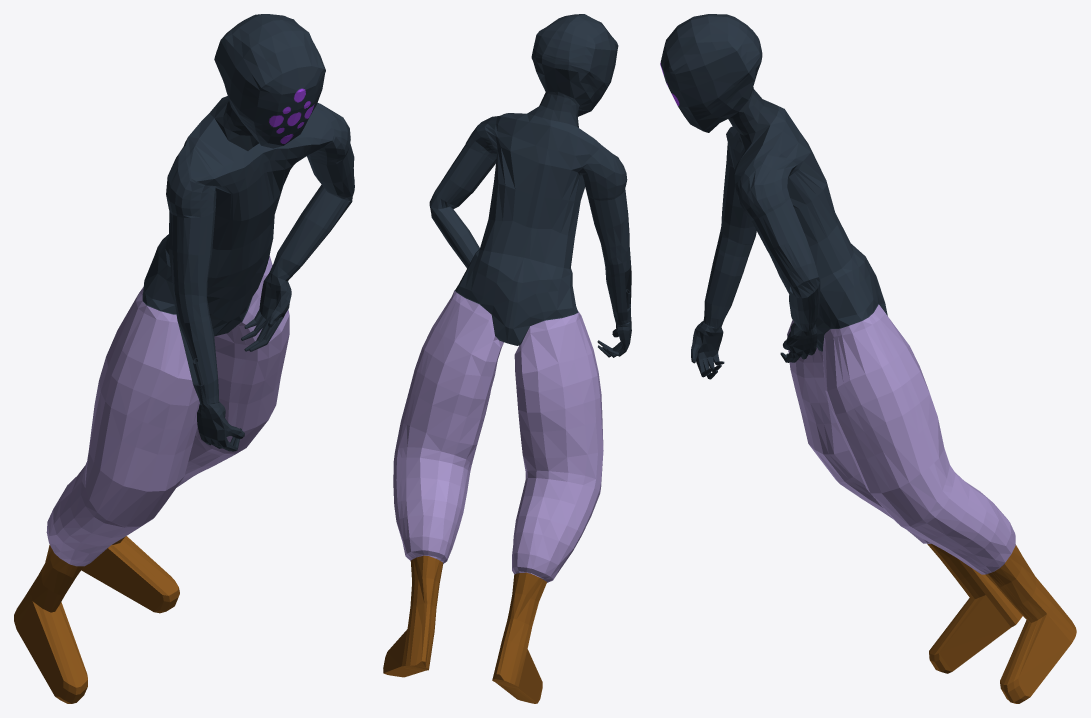
File: Oracle_Die_000005.obj
The picture shows the model from 3 angles, left to right: view 1: azimuth 30°, elevation 25°; view 2: azimuth 150°, elevation 25°; view 3: azimuth 270°, elevation 25°; orthographic projection. The views are drawn at different scales.
Visible parts, largest first — view 1: Cube; view 2: Cube; view 3: Cube.
Part boxes in pixels (x1=…): Cube: x1=14, y1=14, x2=354, y2=703; Cube: x1=383, y1=14, x2=631, y2=703; Cube: x1=660, y1=14, x2=1076, y2=703.
Size of the model in its own units: 1.24 by 3.76 by 2.07.
